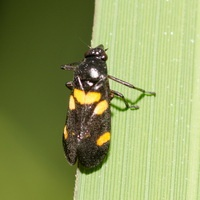insect: (61, 45, 155, 167)
